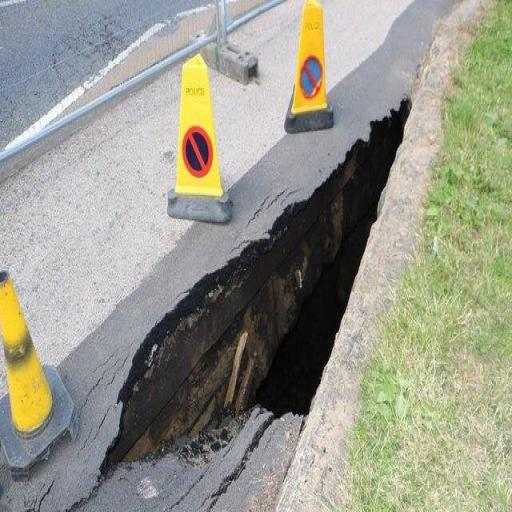Concentric_Crack: (82, 98, 410, 510)
